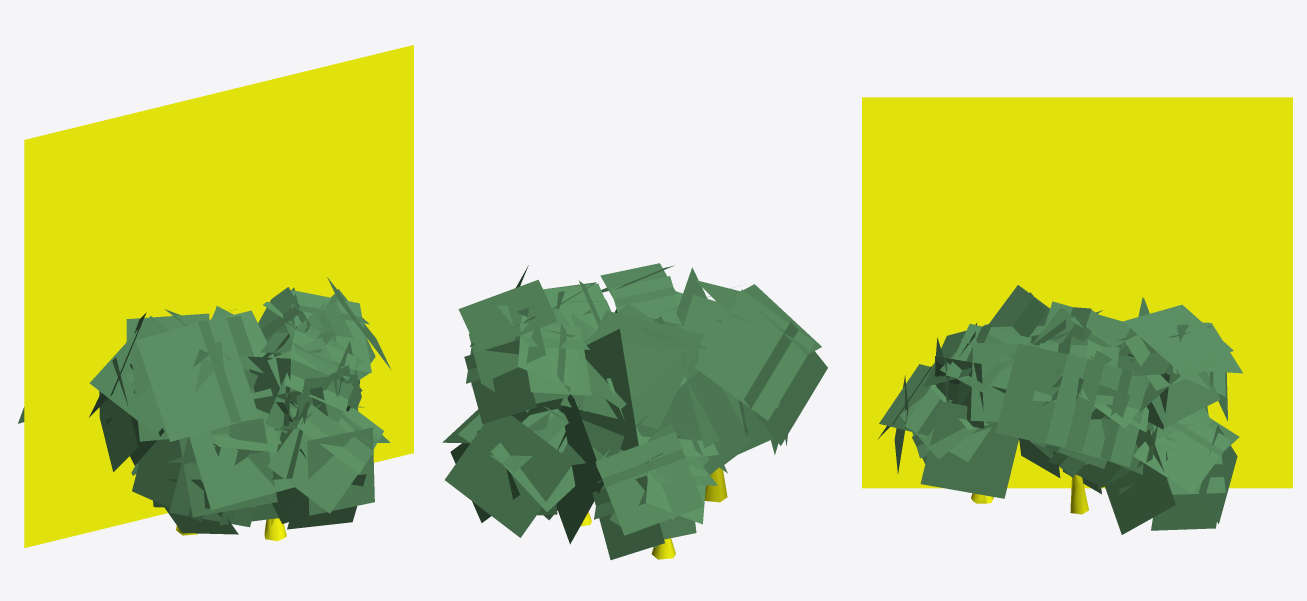
The model's file is Foliage_Bushes_Large_bush_BushMidBlend.glb.
3 views of the same model, side by side, from view 1: azimuth 30°, elevation 25°; view 2: azimuth 150°, elevation 25°; view 3: azimuth 270°, elevation 25° (orthographic). The views are drawn at different scales.
Visible parts, largest first — view 1: tree.Low; view 2: tree.Low; view 3: tree.Low.
Part boxes in pixels (x1,y1,x2,y2): tree.Low: (18, 45, 413, 547); tree.Low: (442, 263, 827, 559); tree.Low: (862, 97, 1292, 534).
Size of the model in its own units: 4.9 by 4.96 by 4.9.
Materials: 3 (2 with a texture image).
